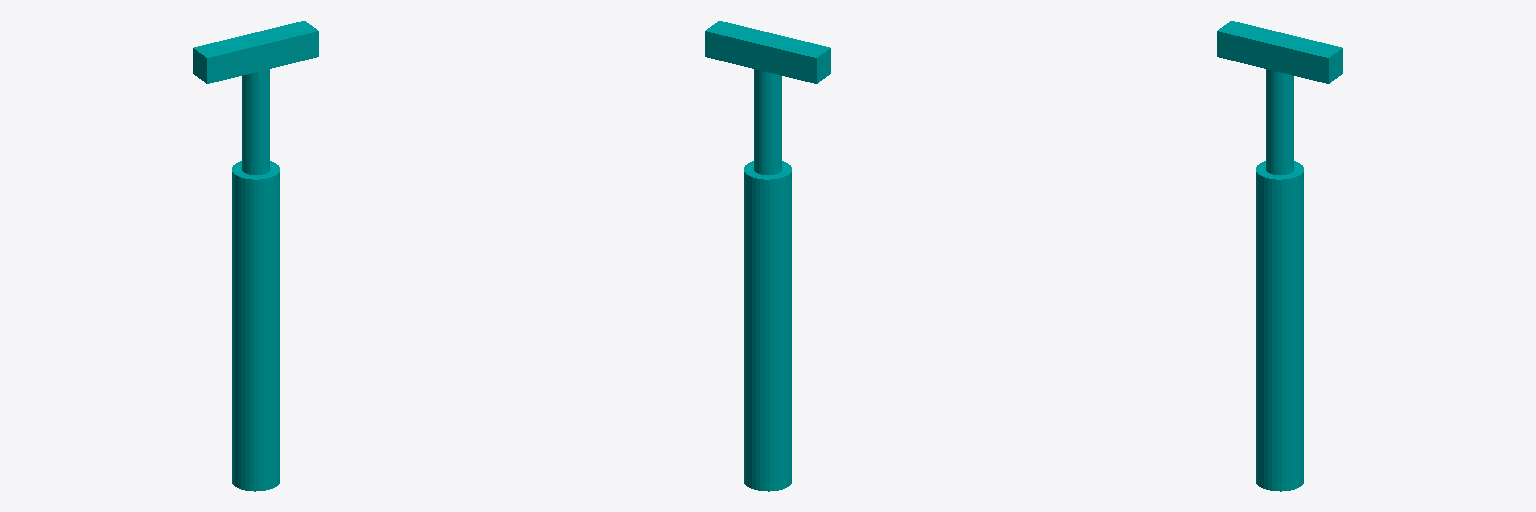
robot.urdf — ur5:
<?xml version="1.0" ?>
<!-- =================================================================================== -->
<!-- |    This document was autogenerated by xacro from my_ur5_joint_limited_robot.urdf.xacro | -->
<!-- |    EDITING THIS FILE BY HAND IS NOT RECOMMENDED                                 | -->
<!-- =================================================================================== -->
<robot name="ur5">
  <gazebo>
    <plugin filename="libgazebo_ros_control.so" name="ros_control">
      <!--robotNamespace>/</robotNamespace-->
      <!--robotSimType>gazebo_ros_control/DefaultRobotHWSim</robotSimType-->
    </plugin>
    <!--
    <plugin name="gazebo_ros_power_monitor_controller" filename="libgazebo_ros_power_monitor.so">
      <alwaysOn>true</alwaysOn>
      <updateRate>1.0</updateRate>
      <timeout>5</timeout>
      <powerStateTopic>power_state</powerStateTopic>
      <powerStateRate>10.0</powerStateRate>
      <fullChargeCapacity>87.78</fullChargeCapacity>     
      <dischargeRate>-474</dischargeRate>
      <chargeRate>525</chargeRate>
      <dischargeVoltage>15.52</dischargeVoltage>
      <chargeVoltage>16.41</chargeVoltage>
    </plugin>
-->
  </gazebo>
  
  <mujoco>
        <compiler 
        meshdir="./ur5/collision" 
        balanceinertia="true" 
        discardvisual="false" />
  </mujoco>
  
  <!-- measured from model -->
  <!--property name="shoulder_height" value="0.089159" /-->
  <!--property name="shoulder_offset" value="0.13585" /-->
  <!-- shoulder_offset - elbow_offset + wrist_1_length = 0.10915 -->
  <!--property name="upper_arm_length" value="0.42500" /-->
  <!--property name="elbow_offset" value="0.1197" /-->
  <!-- CAD measured -->
  <!--property name="forearm_length" value="0.39225" /-->
  <!--property name="wrist_1_length" value="0.093" /-->
  <!-- CAD measured -->
  <!--property name="wrist_2_length" value="0.09465" /-->
  <!-- In CAD this distance is 0.930, but in the spec it is 0.09465 -->
  <!--property name="wrist_3_length" value="0.0823" /-->
  <!-- manually measured -->
  <link name="base_link">
    <visual>
      <geometry>
        <mesh filename="./ur5/visual/base.dae"/>
      </geometry>
      <material name="LightGrey">
        <color rgba="0.7 0.7 0.7 1.0"/>
      </material>
    </visual>
    <collision>
      <geometry>
        <mesh filename="./ur5/collision/base.stl"/>
      </geometry>
    </collision>
    <inertial>
      <mass value="4.0"/>
      <origin rpy="0 0 0" xyz="0.0 0.0 0.0"/>
      <inertia ixx="0.00443333156" ixy="0.0" ixz="0.0" iyy="0.00443333156" iyz="0.0" izz="0.0072"/>
    </inertial>
  </link>
  <joint name="shoulder_pan_joint" type="revolute">
    <parent link="base_link"/>
    <child link="shoulder_link"/>
    <origin rpy="0.0 0.0 0.0" xyz="0.0 0.0 0.089159"/>
    <axis xyz="0 0 1"/>
    <limit effort="150.0" lower="-3.141592653589793" upper="3.141592653589793" velocity="3.15"/>
    <dynamics damping="0.0" friction="0.0"/>
  </joint>
  <link name="shoulder_link">
    <visual>
      <geometry>
        <mesh filename="./ur5/visual/shoulder.dae"/>
      </geometry>
      <material name="LightGrey">
        <color rgba="0.7 0.7 0.7 1.0"/>
      </material>
    </visual>
    <collision>
      <geometry>
        <mesh filename="./ur5/collision/shoulder.stl"/>
      </geometry>
    </collision>
    <inertial>
      <mass value="3.7"/>
      <origin rpy="0 0 0" xyz="0.0 0.0 0.0"/>
      <inertia ixx="0.010267495893" ixy="0.0" ixz="0.0" iyy="0.010267495893" iyz="0.0" izz="0.00666"/>
    </inertial>
  </link>
  <joint name="shoulder_lift_joint" type="revolute">
    <parent link="shoulder_link"/>
    <child link="upper_arm_link"/>
    <origin rpy="0.0 1.5707963267948966 0.0" xyz="0.0 0.13585 0.0"/>
    <axis xyz="0 1 0"/>
    <limit effort="150.0" lower="-3.141592653589793" upper="3.141592653589793" velocity="3.15"/>
    <dynamics damping="0.0" friction="0.0"/>
  </joint>
  <link name="upper_arm_link">
    <visual>
      <geometry>
        <mesh filename="./ur5/visual/upperarm.dae"/>
      </geometry>
      <material name="LightGrey">
        <color rgba="0.7 0.7 0.7 1.0"/>
      </material>
    </visual>
    <collision>
      <geometry>
        <mesh filename="./ur5/collision/upperarm.stl"/>
      </geometry>
    </collision>
    <inertial>
      <mass value="8.393"/>
      <origin rpy="0 0 0" xyz="0.0 0.0 0.28"/>
      <inertia ixx="0.22689067591036005" ixy="0.0" ixz="0.0" iyy="0.22689067591036005" iyz="0.0" izz="0.0151074"/>
    </inertial>
  </link>
  <joint name="elbow_joint" type="revolute">
    <parent link="upper_arm_link"/>
    <child link="forearm_link"/>
    <origin rpy="0.0 0.0 0.0" xyz="0.0 -0.1197 0.425"/>
    <axis xyz="0 1 0"/>
    <limit effort="150.0" lower="-3.141592653589793" upper="3.141592653589793" velocity="3.15"/>
    <dynamics damping="0.0" friction="0.0"/>
  </joint>
  <link name="forearm_link">
    <visual>
      <geometry>
        <mesh filename="./ur5/visual/forearm.dae"/>
      </geometry>
      <material name="LightGrey">
        <color rgba="0.7 0.7 0.7 1.0"/>
      </material>
    </visual>
    <collision>
      <geometry>
        <mesh filename="./ur5/collision/forearm.stl"/>
      </geometry>
    </collision>
    <inertial>
      <mass value="2.275"/>
      <origin rpy="0 0 0" xyz="0.0 0.0 0.196125"/>
      <inertia ixx="0.03121679102890359" ixy="0.0" ixz="0.0" iyy="0.03121679102890359" iyz="0.0" izz="0.004095"/>
    </inertial>
  </link>
  <joint name="wrist_1_joint" type="revolute">
    <parent link="forearm_link"/>
    <child link="wrist_1_link"/>
    <origin rpy="0.0 1.5707963267948966 0.0" xyz="0.0 0.0 0.39225"/>
    <axis xyz="0 1 0"/>
    <limit effort="28.0" lower="-3.141592653589793" upper="3.141592653589793" velocity="3.2"/>
    <dynamics damping="0.0" friction="0.0"/>
  </joint>
  <link name="wrist_1_link">
    <visual>
      <geometry>
        <mesh filename="./ur5/visual/wrist1.dae"/>
      </geometry>
      <material name="LightGrey">
        <color rgba="0.7 0.7 0.7 1.0"/>
      </material>
    </visual>
    <collision>
      <geometry>
        <mesh filename="./ur5/collision/wrist1.stl"/>
      </geometry>
    </collision>
    <inertial>
      <mass value="1.219"/>
      <origin rpy="0 0 0" xyz="0.0 0.093 0.0"/>
      <inertia ixx="0.0025598989760400002" ixy="0.0" ixz="0.0" iyy="0.0025598989760400002" iyz="0.0" izz="0.0021942"/>
    </inertial>
  </link>
  <joint name="wrist_2_joint" type="revolute">
    <parent link="wrist_1_link"/>
    <child link="wrist_2_link"/>
    <origin rpy="0.0 0.0 0.0" xyz="0.0 0.093 0.0"/>
    <axis xyz="0 0 1"/>
    <limit effort="28.0" lower="-3.141592653589793" upper="3.141592653589793" velocity="3.2"/>
    <dynamics damping="0.0" friction="0.0"/>
  </joint>
  <link name="wrist_2_link">
    <visual>
      <geometry>
        <mesh filename="./ur5/visual/wrist2.dae"/>
      </geometry>
      <material name="LightGrey">
        <color rgba="0.7 0.7 0.7 1.0"/>
      </material>
    </visual>
    <collision>
      <geometry>
        <mesh filename="./ur5/collision/wrist2.stl"/>
      </geometry>
    </collision>
    <inertial>
      <mass value="1.219"/>
      <origin rpy="0 0 0" xyz="0.0 0.0 0.09465"/>
      <inertia ixx="0.0025598989760400002" ixy="0.0" ixz="0.0" iyy="0.0025598989760400002" iyz="0.0" izz="0.0021942"/>
    </inertial>
  </link>
  <joint name="wrist_3_joint" type="revolute">
    <parent link="wrist_2_link"/>
    <child link="wrist_3_link"/>
    <origin rpy="0.0 0.0 0.0" xyz="0.0 0.0 0.09465"/>
    <axis xyz="0 1 0"/>
    <limit effort="28.0" lower="-3.141592653589793" upper="3.141592653589793" velocity="3.2"/>
    <dynamics damping="0.0" friction="0.0"/>
  </joint>
  <link name="wrist_3_link">
    <visual>
      <geometry>
        <mesh filename="./ur5/visual/wrist3.dae"/>
      </geometry>
      <material name="LightGrey">
        <color rgba="0.7 0.7 0.7 1.0"/>
      </material>
    </visual>
    <collision>
      <geometry>
        <mesh filename="./ur5/collision/wrist3.stl"/>
      </geometry>
    </collision>
    <inertial>
      <mass value="0.1879"/>
      <origin rpy="1.5707963267948966 0 0" xyz="0.0 0.06505 0.0"/>
      <inertia ixx="8.469589112163e-05" ixy="0.0" ixz="0.0" iyy="8.469589112163e-05" iyz="0.0" izz="0.0001321171875"/>
    </inertial>
  </link>
  <joint name="ee_fixed_joint" type="fixed">
    <parent link="wrist_3_link"/>
    <child link="ee_link"/>
    <origin rpy="0.0 0.0 1.5707963267948966" xyz="0.0 0.0823 0.0"/>
  </joint>
  <link name="ee_link">
    <collision>
      <geometry>
        <box size="0.01 0.01 0.01"/>
      </geometry>
      <origin rpy="0 0 0" xyz="-0.01 0 0"/>
    </collision>
  </link>
  <transmission name="shoulder_pan_trans">
    <type>transmission_interface/SimpleTransmission</type>
    <joint name="shoulder_pan_joint">
      <hardwareInterface>hardware_interface/PositionJointInterface</hardwareInterface>
    </joint>
    <actuator name="shoulder_pan_motor">
      <mechanicalReduction>1</mechanicalReduction>
    </actuator>
  </transmission>
  <transmission name="shoulder_lift_trans">
    <type>transmission_interface/SimpleTransmission</type>
    <joint name="shoulder_lift_joint">
      <hardwareInterface>hardware_interface/PositionJointInterface</hardwareInterface>
    </joint>
    <actuator name="shoulder_lift_motor">
      <mechanicalReduction>1</mechanicalReduction>
    </actuator>
  </transmission>
  <transmission name="elbow_trans">
    <type>transmission_interface/SimpleTransmission</type>
    <joint name="elbow_joint">
      <hardwareInterface>hardware_interface/PositionJointInterface</hardwareInterface>
    </joint>
    <actuator name="elbow_motor">
      <mechanicalReduction>1</mechanicalReduction>
    </actuator>
  </transmission>
  <transmission name="wrist_1_trans">
    <type>transmission_interface/SimpleTransmission</type>
    <joint name="wrist_1_joint">
      <hardwareInterface>hardware_interface/PositionJointInterface</hardwareInterface>
    </joint>
    <actuator name="wrist_1_motor">
      <mechanicalReduction>1</mechanicalReduction>
    </actuator>
  </transmission>
  <transmission name="wrist_2_trans">
    <type>transmission_interface/SimpleTransmission</type>
    <joint name="wrist_2_joint">
      <hardwareInterface>hardware_interface/PositionJointInterface</hardwareInterface>
    </joint>
    <actuator name="wrist_2_motor">
      <mechanicalReduction>1</mechanicalReduction>
    </actuator>
  </transmission>
  <transmission name="wrist_3_trans">
    <type>transmission_interface/SimpleTransmission</type>
    <joint name="wrist_3_joint">
      <hardwareInterface>hardware_interface/PositionJointInterface</hardwareInterface>
    </joint>
    <actuator name="wrist_3_motor">
      <mechanicalReduction>1</mechanicalReduction>
    </actuator>
  </transmission>
  <gazebo reference="shoulder_link">
    <selfCollide>true</selfCollide>
  </gazebo>
  <gazebo reference="upper_arm_link">
    <selfCollide>true</selfCollide>
  </gazebo>
  <gazebo reference="forearm_link">
    <selfCollide>true</selfCollide>
  </gazebo>
  <gazebo reference="wrist_1_link">
    <selfCollide>true</selfCollide>
  </gazebo>
  <gazebo reference="wrist_3_link">
    <selfCollide>true</selfCollide>
  </gazebo>
  <gazebo reference="wrist_2_link">
    <selfCollide>true</selfCollide>
  </gazebo>
  <gazebo reference="ee_link">
    <selfCollide>true</selfCollide>
  </gazebo>
  <!-- ROS base_link to UR 'Base' Coordinates transform -->
  <link name="base"/>
  <joint name="base_link-base_fixed_joint" type="fixed">
    <!-- NOTE: this rotation is only needed as long as base_link itself is
                 not corrected wrt the real robot (ie: rotated over 180
                 degrees)
      -->
    <origin rpy="0 0 -3.141592653589793" xyz="0 0 0"/>
    <parent link="base_link"/>
    <child link="base"/>
  </joint>
  <!-- Frame coincident with all-zeros TCP on UR controller -->
  <link name="tool0"/>
  <joint name="wrist_3_link-tool0_fixed_joint" type="fixed">
    <origin rpy="-1.5707963267948966 0 0" xyz="0 0.0823 0"/>
    <parent link="wrist_3_link"/>
    <child link="tool0"/>
  </joint>
  <link name="world"/>
  <link name="base_support_cylinder_link">
    <visual>
      <geometry>
        <cylinder length="1.2" radius="0.085"/>
      </geometry>
      <material name="LightGrey">
        <color rgba="0 0.7 0.7 1.0"/>
      </material>
    </visual>
    <collision>
      <geometry>
        <cylinder length="1.2" radius="0.05"/>
      </geometry>
    </collision>
  </link>
  <link name="base_support_cylinder_link_2">
    <visual>
      <geometry>
        <cylinder length="0.4" radius="0.05"/>
      </geometry>
      <material name="LightGrey">
        <color rgba="0 0.7 0.7 1.0"/>
      </material>
    </visual>
    <collision>
      <geometry>
        <cylinder length="0.4" radius="0.05"/>
      </geometry>
    </collision>
  </link>
  <link name="base_support_box_link">
    <visual>
      <geometry>
        <box size="0.1 0.45 0.1"/>
      </geometry>
      <material name="LightGrey">
        <color rgba="0 0.7 0.7 1.0"/>
      </material>
    </visual>
    <collision>
      <geometry>
        <box size="0.1 0.40 0.1"/>
      </geometry>
    </collision>
  </link>
  <link name="world_link">

  </link>
  <joint name="world_joint" type="fixed">
    <parent link="world"/>
    <child link="base_support_cylinder_link"/>
    <origin rpy="0.0 0.0 1.5708" xyz="0.0 0.0 0.6"/>
  </joint>
  <joint name="cylinde_cylinder_link" type="fixed">
    <parent link="base_support_cylinder_link"/>
    <child link="base_support_cylinder_link_2"/>
    <origin rpy="0.0 0.0 0.0" xyz="0.0 0.0 0.8"/>
  </joint>
  <joint name="box_cylinder_link" type="fixed">
    <parent link="base_support_cylinder_link_2"/>
    <child link="base_support_box_link"/>
    <origin rpy="0.0 0.0 0.0" xyz="0.0 0.0 0.25"/>
  </joint>
  <joint name="base_world_joint" type="fixed">
    <parent link="base_support_box_link"/>
    <child link="world_link"/>
    <origin rpy="0.0 0.0 -1.5708" xyz="0.0 0.25 0.0"/>
  </joint>
  <joint name="base_support_joint_L" type="fixed">
    <parent link="world_link"/>
    <child link="base_link"/>
    <origin rpy="-0.61548 -2.61799 0.955316" xyz="0.0 0.0 0.0"/>
  </joint>
</robot>

--- What the picture shows (computed from the rendered views, not written in the file) ---
3 views of the same robot in one strip: view 1: azimuth 30°, elevation 25°; view 2: azimuth 150°, elevation 25°; view 3: azimuth 330°, elevation 25° (orthographic).
Model ur5 with 15 links and 14 joints (6 revolute, 8 fixed), rooted at world, posed every joint at zero.
Links seen in each view (by area): view 1: base_support_cylinder_link, base_support_box_link, base_support_cylinder_link_2; view 2: base_support_cylinder_link, base_support_box_link, base_support_cylinder_link_2; view 3: base_support_cylinder_link, base_support_box_link, base_support_cylinder_link_2.
Link boxes in pixels (x1,y1,x2,y2): base_support_cylinder_link: (232,161,279,491); base_support_box_link: (193,21,318,83); base_support_cylinder_link_2: (242,69,269,174); base_support_cylinder_link: (744,161,791,491); base_support_box_link: (705,21,830,83); base_support_cylinder_link_2: (754,69,781,174); base_support_cylinder_link: (1256,161,1303,491); base_support_box_link: (1217,21,1342,83); base_support_cylinder_link_2: (1266,69,1293,174).
Bounding box of the posed robot: 0.45 × 0.17 × 1.7 m (x, y, z).
Meshes: 7 distinct files referenced, 0 mesh visuals loaded (none loaded); not drawn: 7 (reference not matched to a file when rendering).